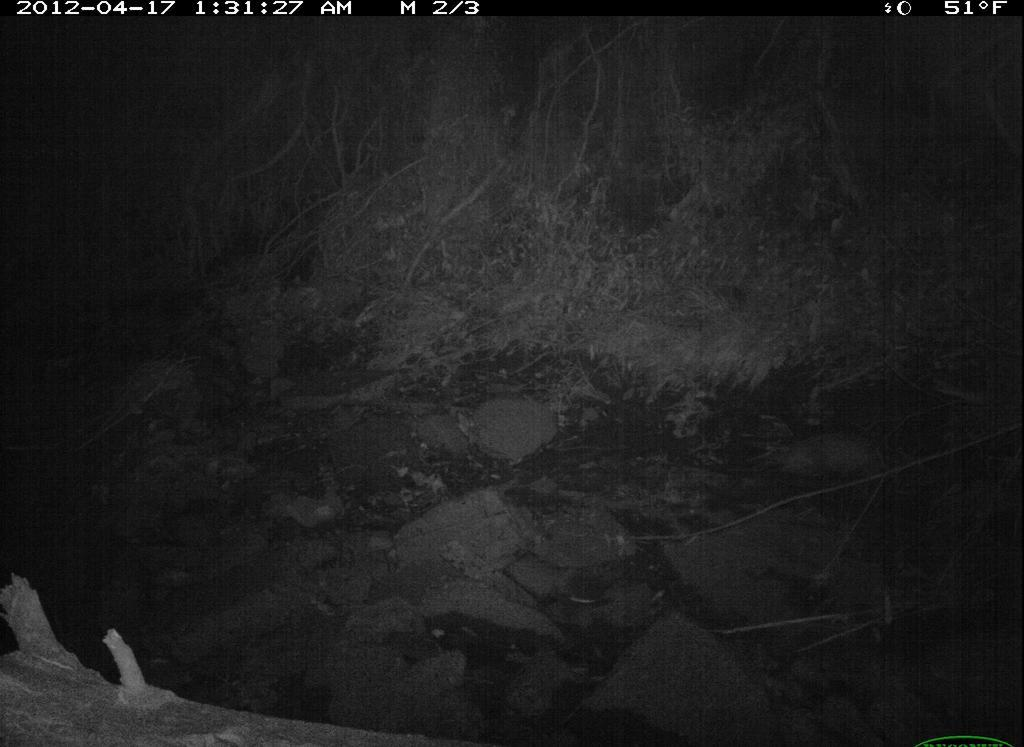opossum: (750, 422, 907, 494)
